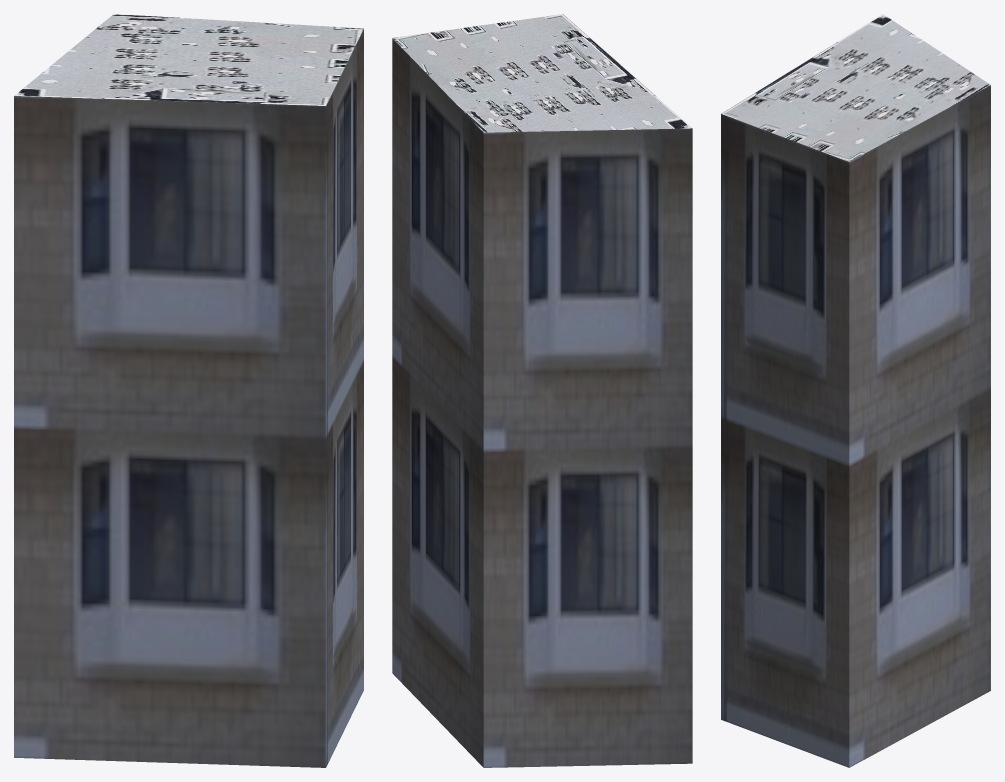
Rendered from ResTex__2852.fbx.
The picture shows the model from 3 angles, left to right: view 1: azimuth 30°, elevation 25°; view 2: azimuth 150°, elevation 25°; view 3: azimuth 270°, elevation 25°; orthographic projection. The views are drawn at different scales.
Parts seen in each view (by area): view 1: CityEngineMaterial_3_m, CityEngineMaterial_4_m; view 2: CityEngineMaterial_3_m, CityEngineMaterial_4_m; view 3: CityEngineMaterial_3_m, CityEngineMaterial_4_m.
Boxes of the visible parts, left/top/right/bottom form: CityEngineMaterial_3_m: left=14, top=29, right=363, bottom=767; CityEngineMaterial_4_m: left=14, top=14, right=363, bottom=105; CityEngineMaterial_3_m: left=392, top=38, right=692, bottom=767; CityEngineMaterial_4_m: left=392, top=14, right=691, bottom=132; CityEngineMaterial_3_m: left=721, top=85, right=990, bottom=767; CityEngineMaterial_4_m: left=721, top=14, right=990, bottom=161.
Bounding box in the file's own units: 3.14 × 6 × 2.42.
2 materials, 2 textured.
